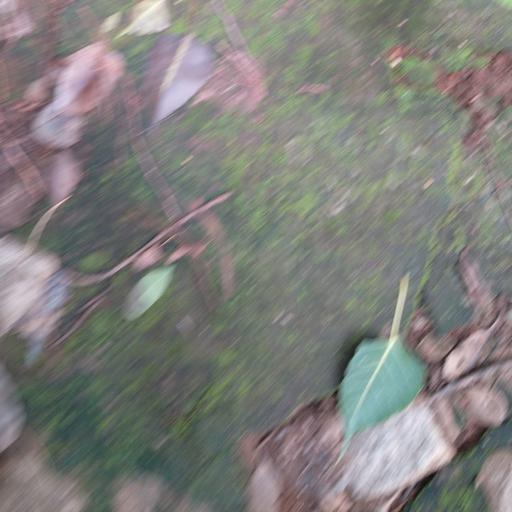algae: (26, 6, 449, 466)
